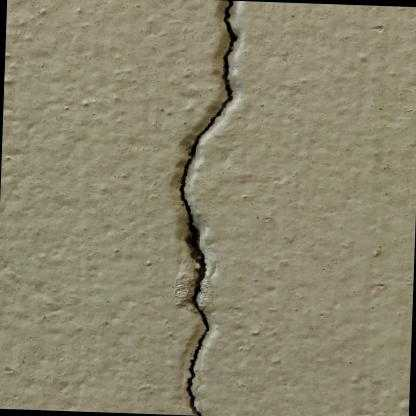crack: (179, 1, 237, 416)
